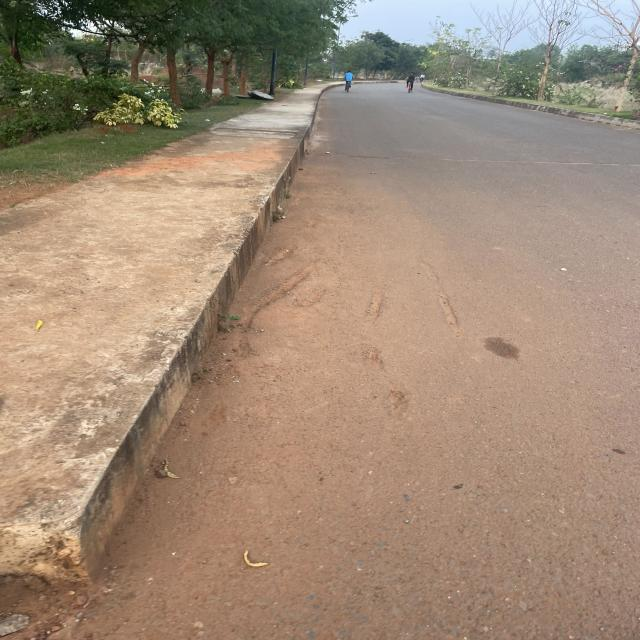D40: (344, 274, 430, 446)
